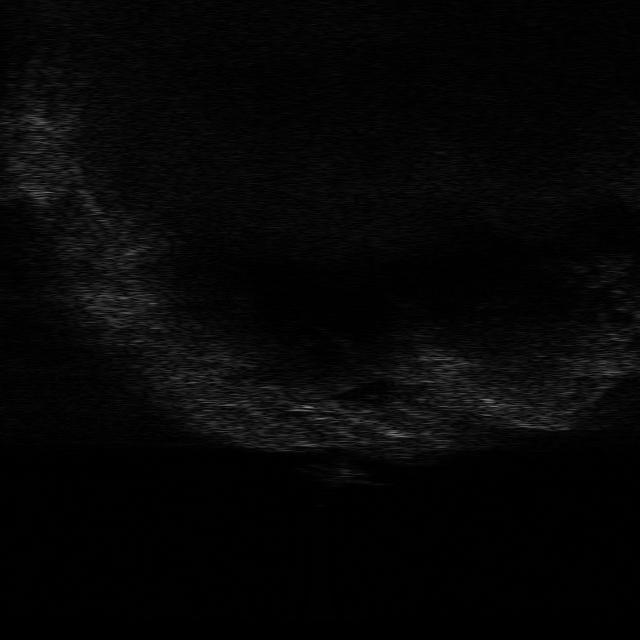plane: (303, 457, 382, 486)
